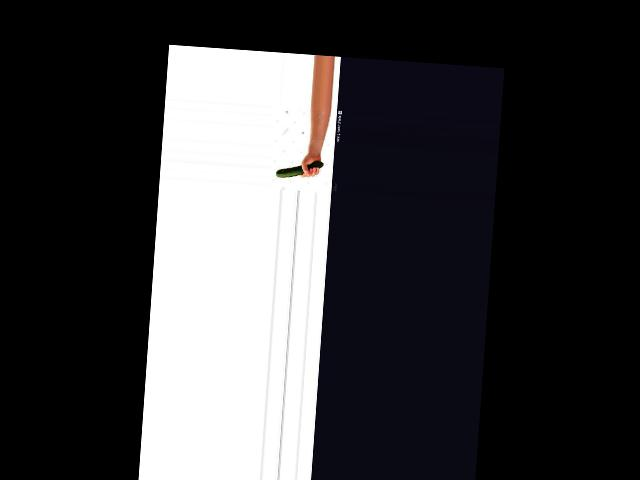cucumber: (276, 159, 323, 180)
